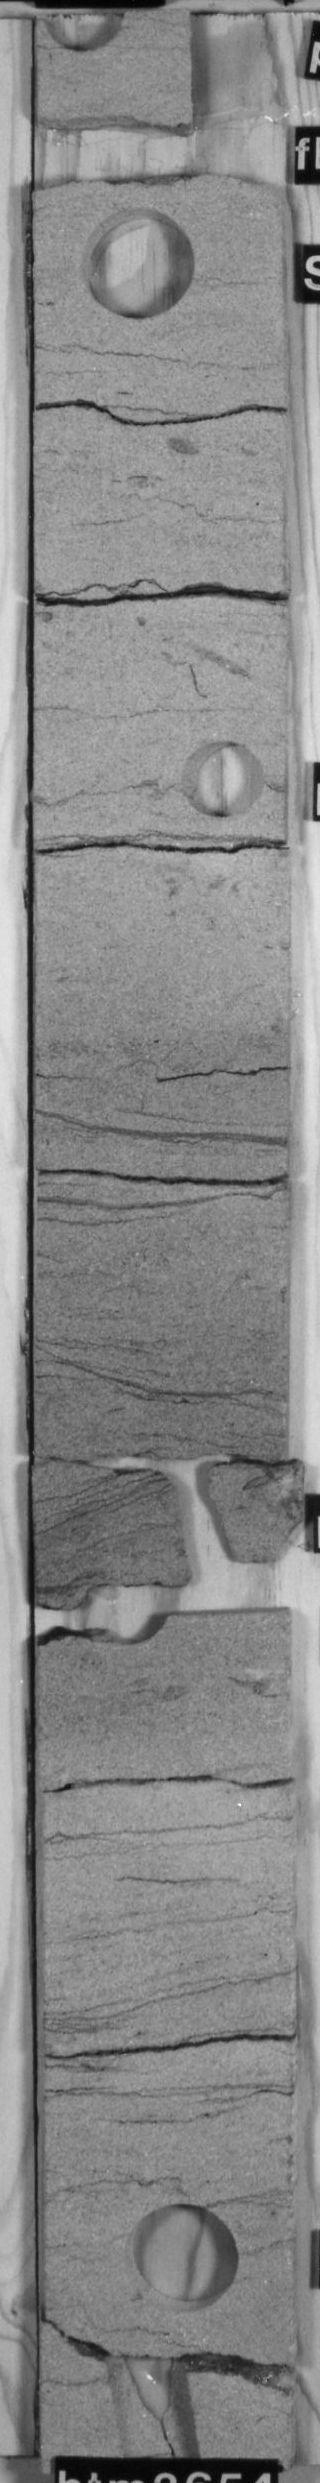hplug: (27, 109, 196, 195), (60, 1561, 181, 1660), (162, 722, 271, 830), (32, 2, 147, 67)
scal: (67, 198, 222, 337), (112, 2187, 255, 2323)
vplug: (95, 2337, 208, 2459), (155, 1441, 241, 1577)
